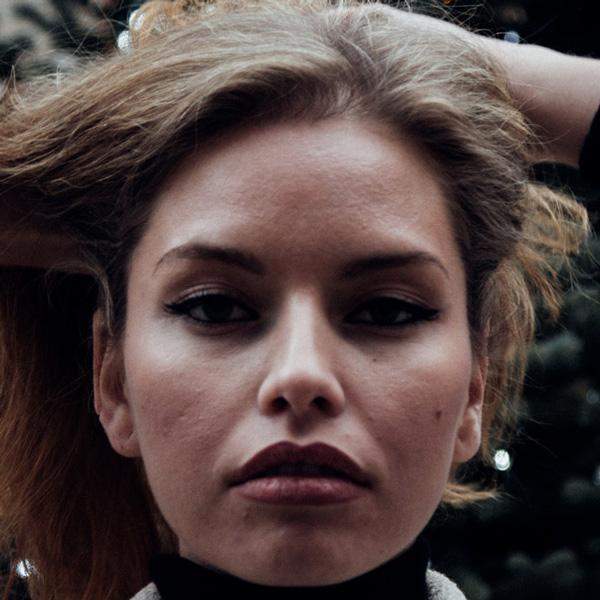Eyes: (333, 278, 447, 343), (161, 274, 264, 343)
